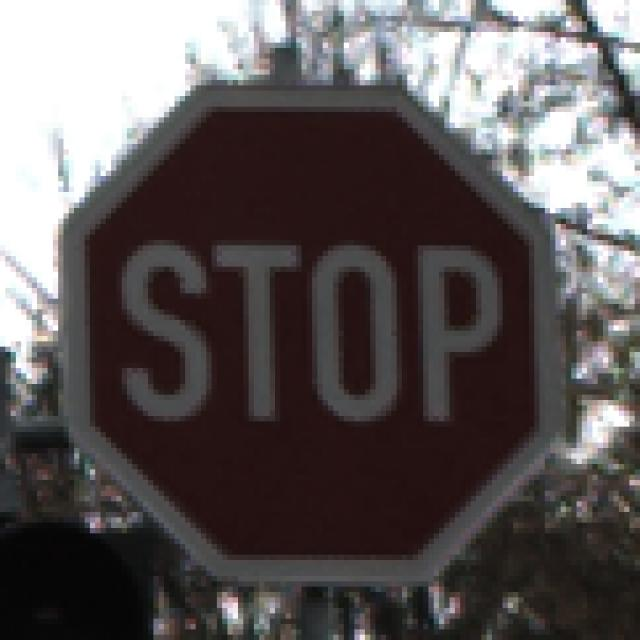STOP: (59, 60, 583, 582)
